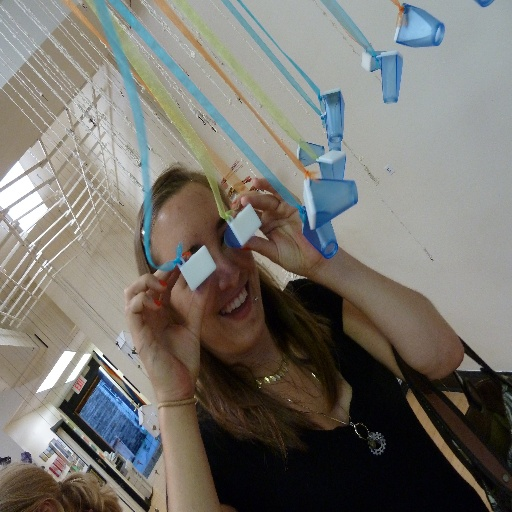hand: (227, 175, 329, 280), (126, 254, 199, 399)
